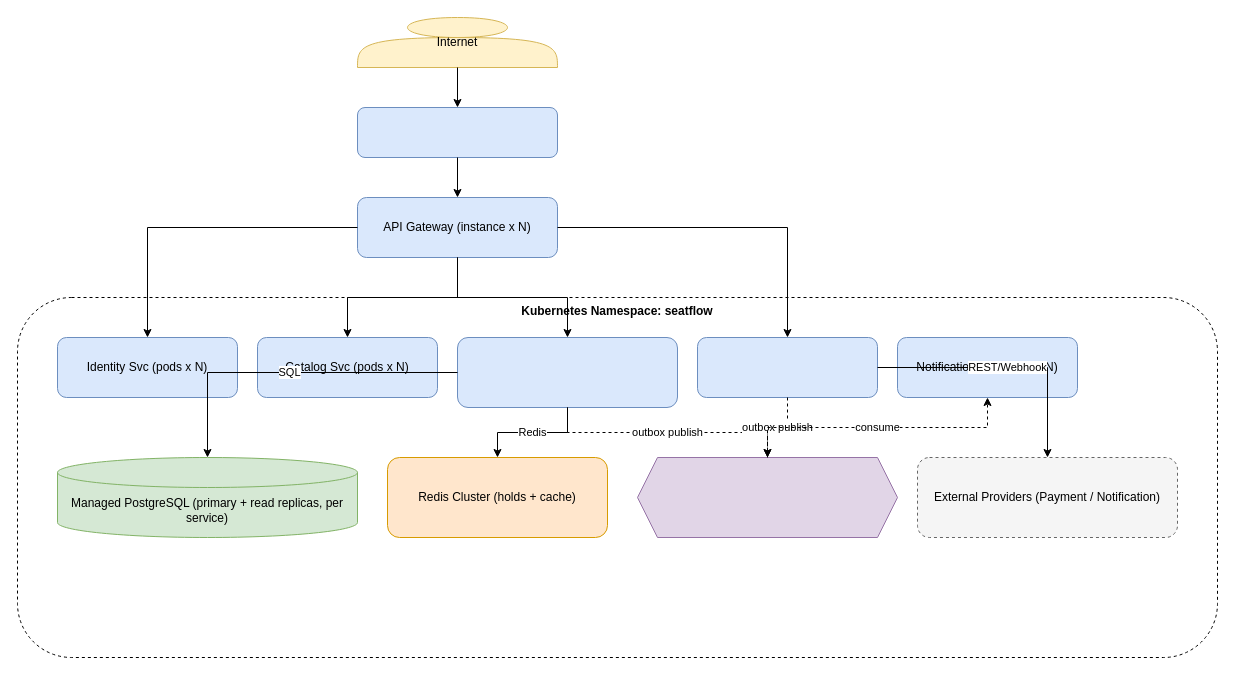
This 1235x675 diagram has some shape labels left out. Each missing label, with the centre of its shape:
Booking Svc (pods x N, HPA on CPU + queue depth): point 567,372
Kafka Cluster (N brokers, partitioned topics): point 767,497
Load Balancer: point 457,132
Payment Svc (pods x N): point 787,367
